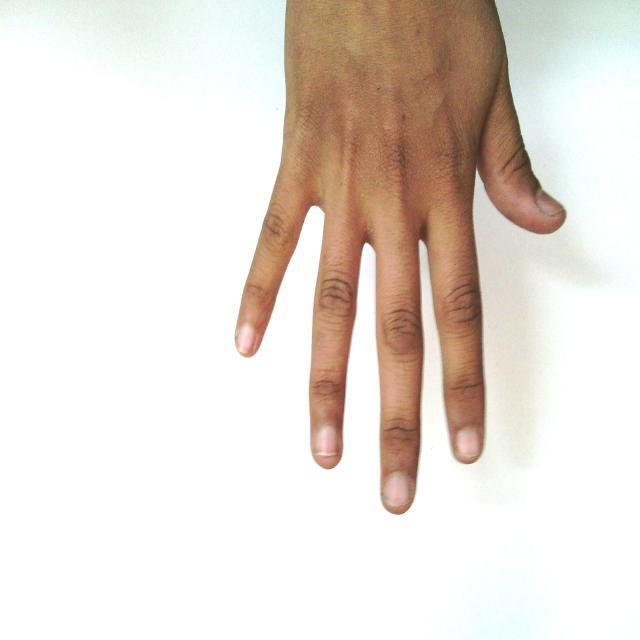Fingernail: (385, 473, 412, 507), (456, 429, 480, 459), (315, 426, 339, 456), (537, 190, 563, 215), (238, 327, 255, 353)
